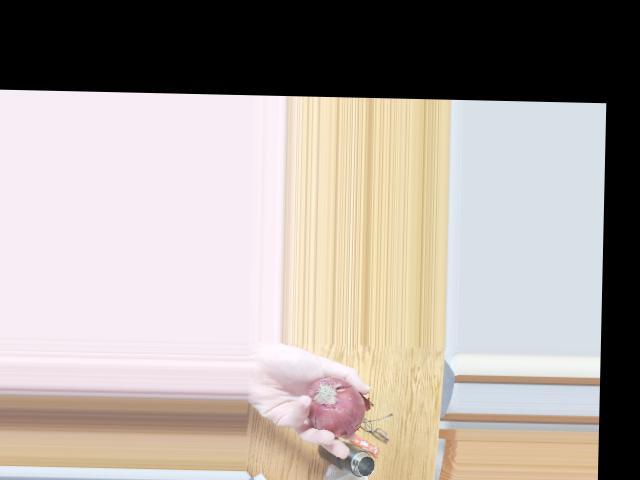onion: (298, 375, 366, 436)
